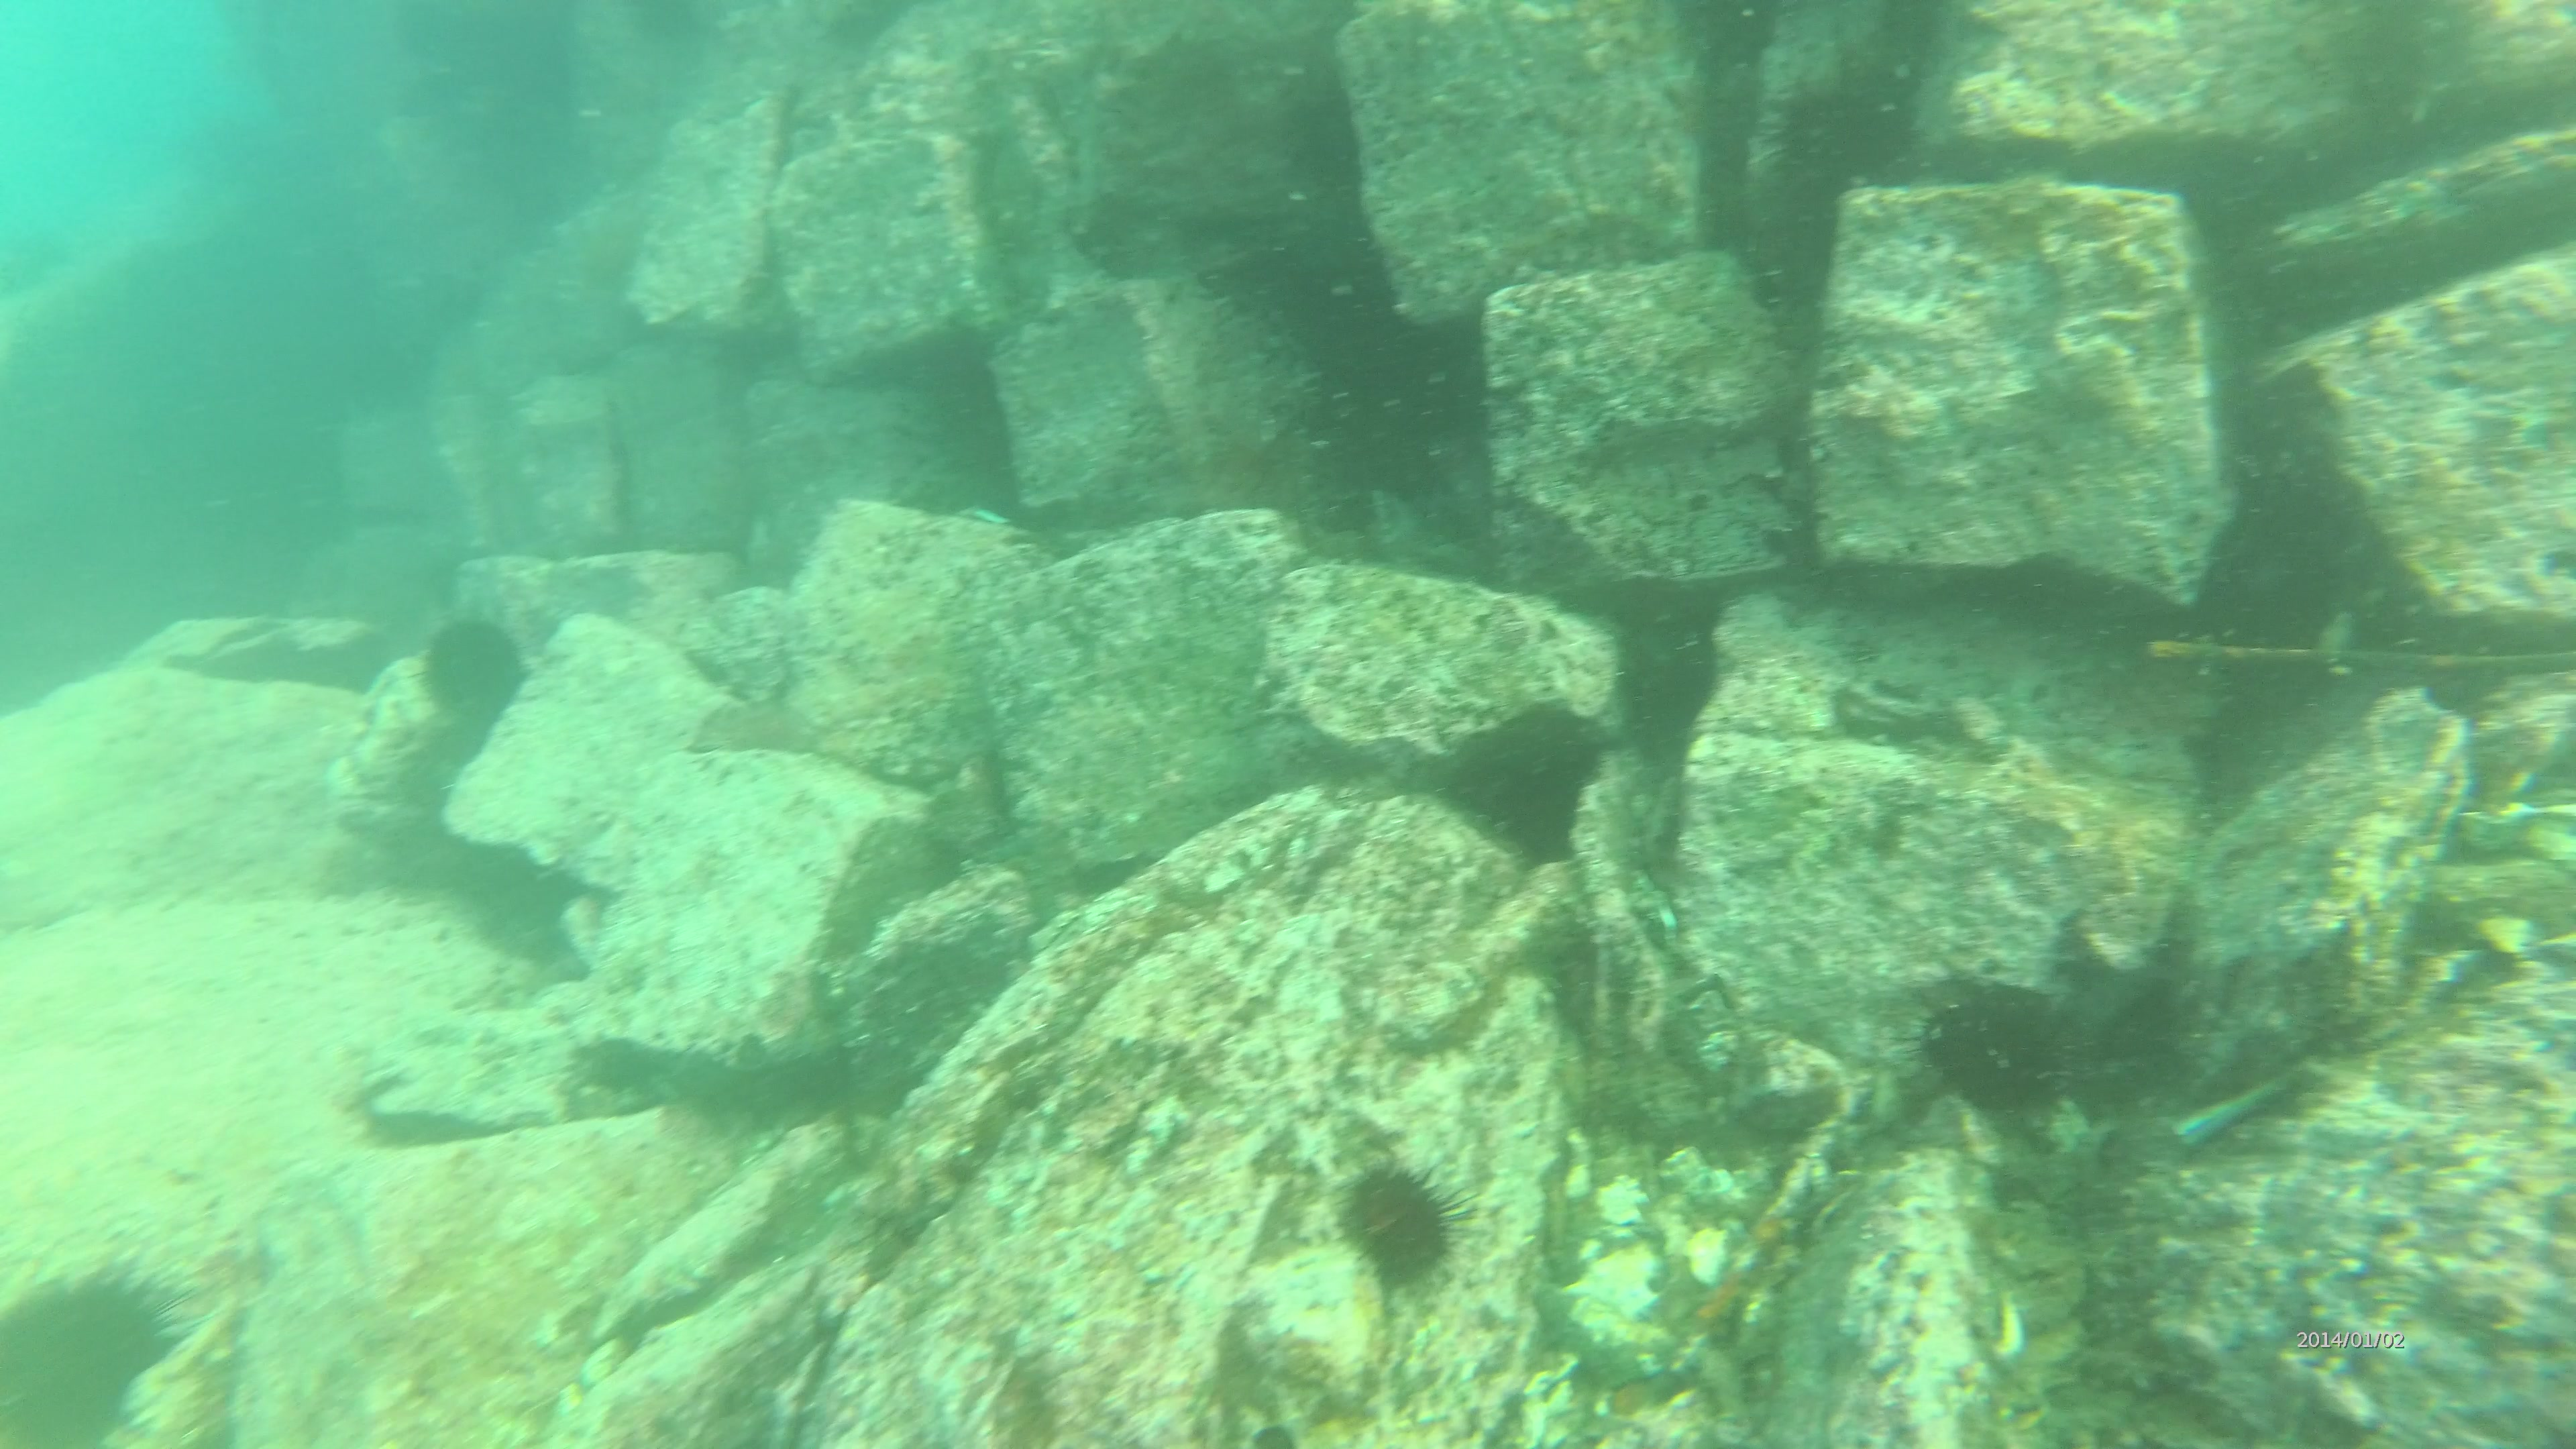echinus: (0, 1253, 186, 1445), (1911, 989, 2066, 1111), (1336, 1161, 1449, 1288), (416, 612, 531, 717)
